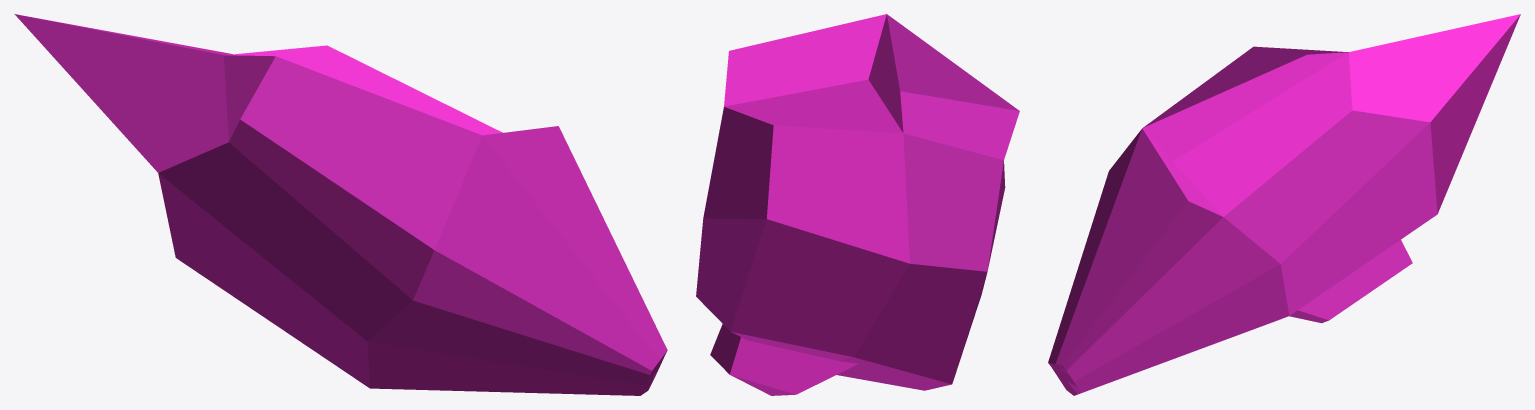
File: CrystalDebris1.fbx
3 renders of one model, left to right at view 1: azimuth 30°, elevation 25°; view 2: azimuth 150°, elevation 25°; view 3: azimuth 270°, elevation 25°, orthographic. The views are drawn at different scales.
Parts seen in each view (by area): view 1: CrystalDebris1; view 2: CrystalDebris1; view 3: CrystalDebris1.
Boxes of the visible parts, left/top/right/bottom form: CrystalDebris1: left=14, top=14, right=667, bottom=395; CrystalDebris1: left=696, top=14, right=1019, bottom=395; CrystalDebris1: left=1048, top=14, right=1520, bottom=395.
Bounding box in the file's own units: 90.55 × 67.83 × 115.
